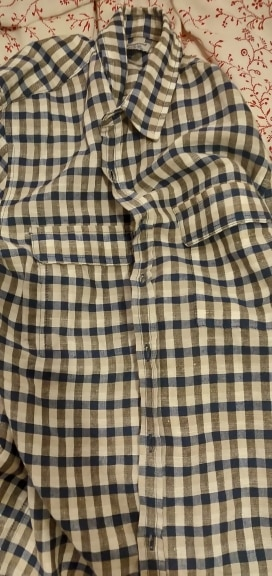shirts: (3, 7, 272, 555)
